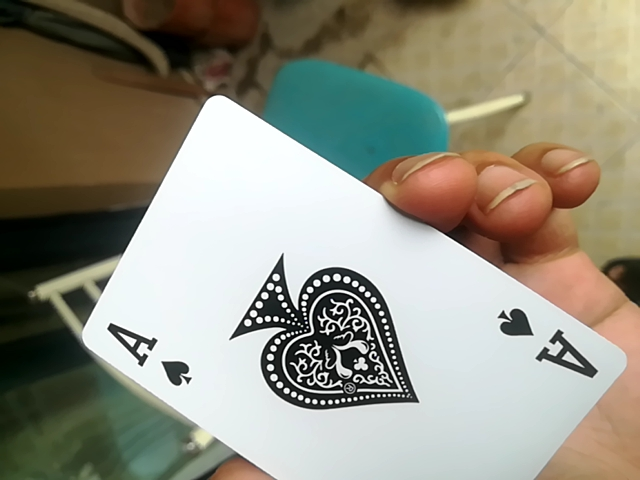ht a: (57, 93, 640, 477)
